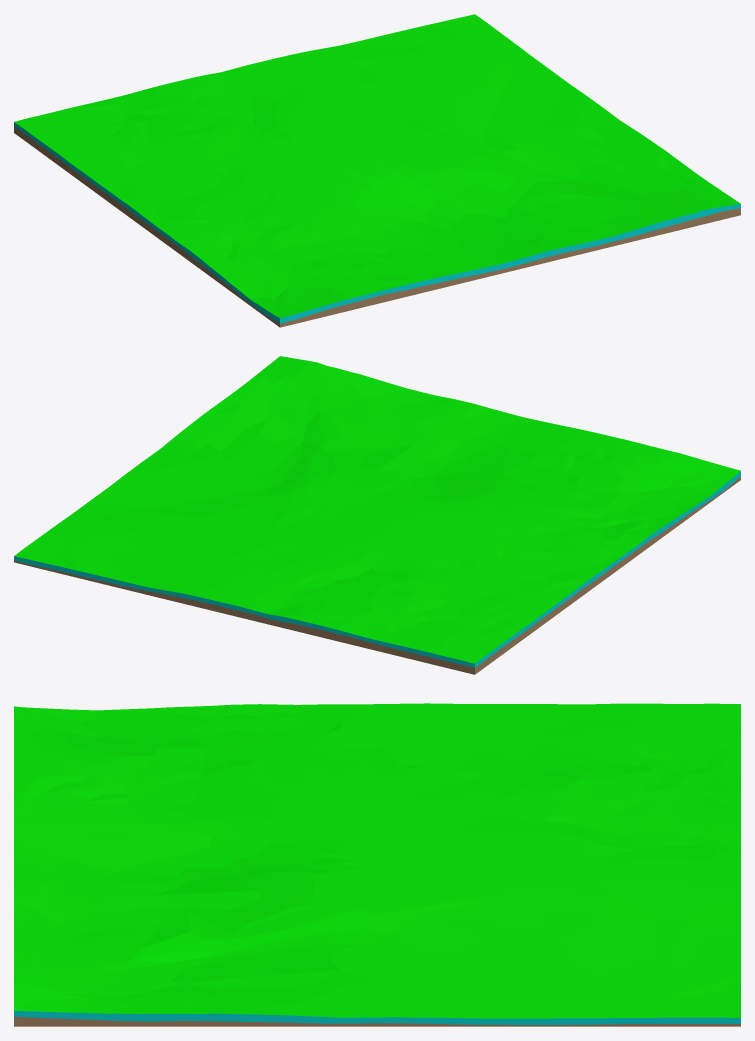
The model's file is ground_cut_A_short.fbx.
3 views of the same model, one above another, from view 1: azimuth 30°, elevation 25°; view 2: azimuth 150°, elevation 25°; view 3: azimuth 270°, elevation 25° (orthographic). The views are drawn at different scales.
Parts seen in each view (by area): view 1: ground_cut_A_short; view 2: ground_cut_A_short; view 3: ground_cut_A_short.
Part boxes in pixels (box(x1,y1,x2,y2)): ground_cut_A_short: box(14, 14, 740, 327); ground_cut_A_short: box(14, 356, 740, 674); ground_cut_A_short: box(14, 703, 740, 1026).
Size of the model in its own units: 3742 by 110 by 3742.
